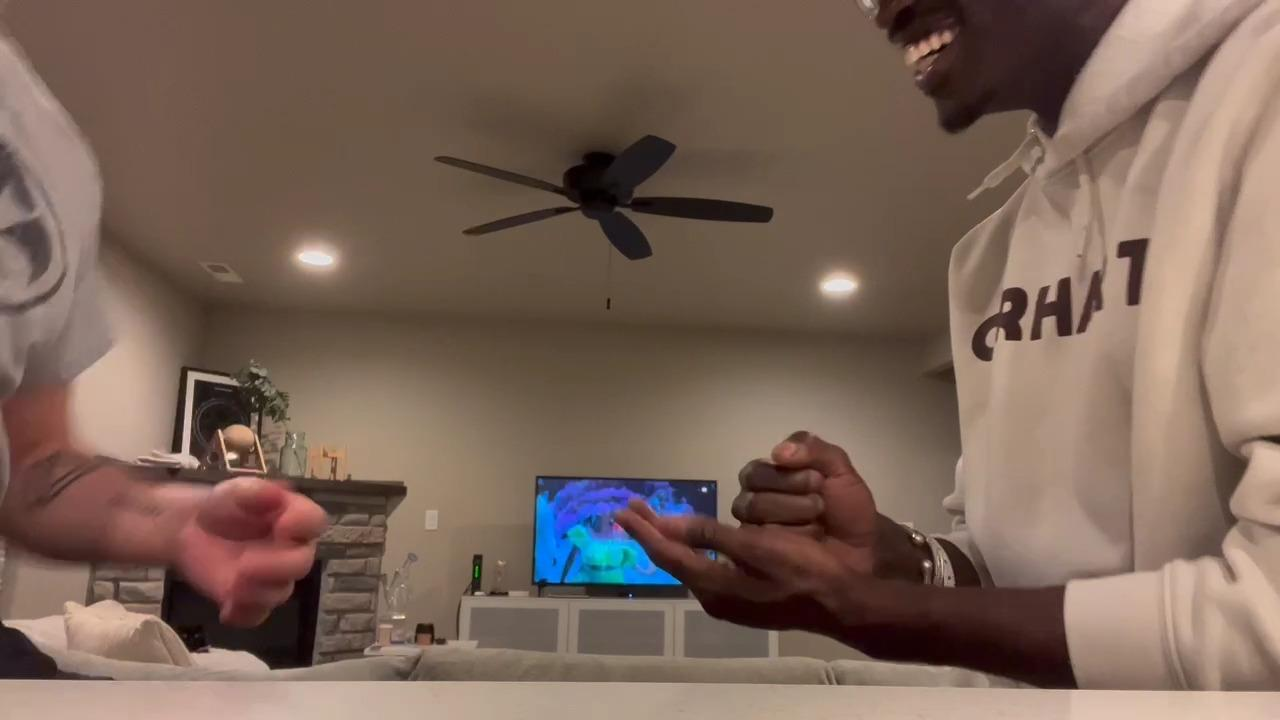Rock: (733, 430, 875, 586)
